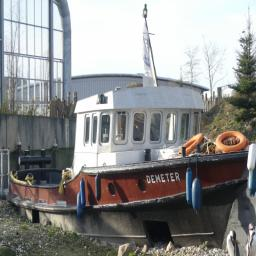tugboat: (5, 76, 256, 254)
